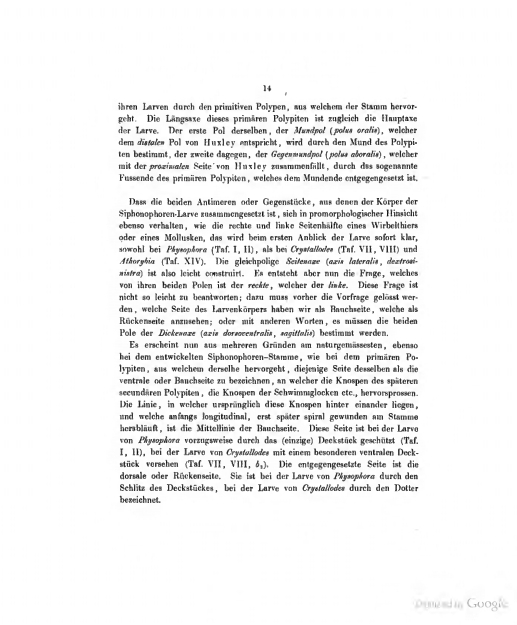MainZone: (106, 96, 434, 517)
NoiseZone: (405, 589, 517, 625)
NumberingZone_page: (254, 78, 279, 96)
